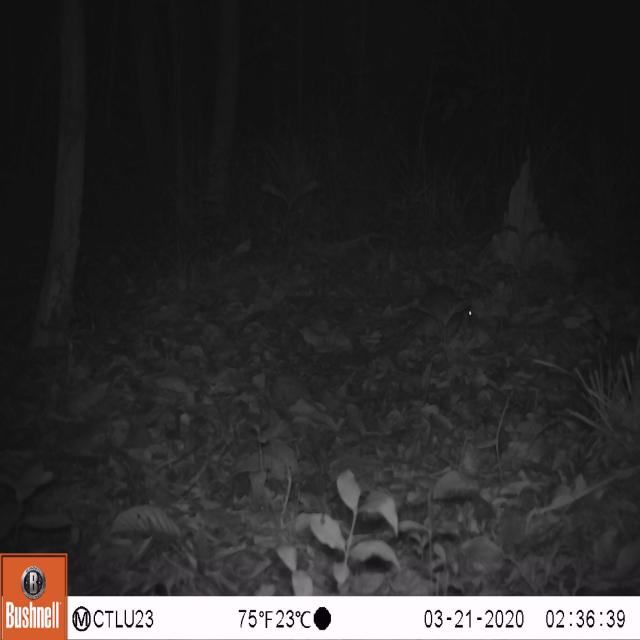Rodent: (410, 262, 504, 344)
